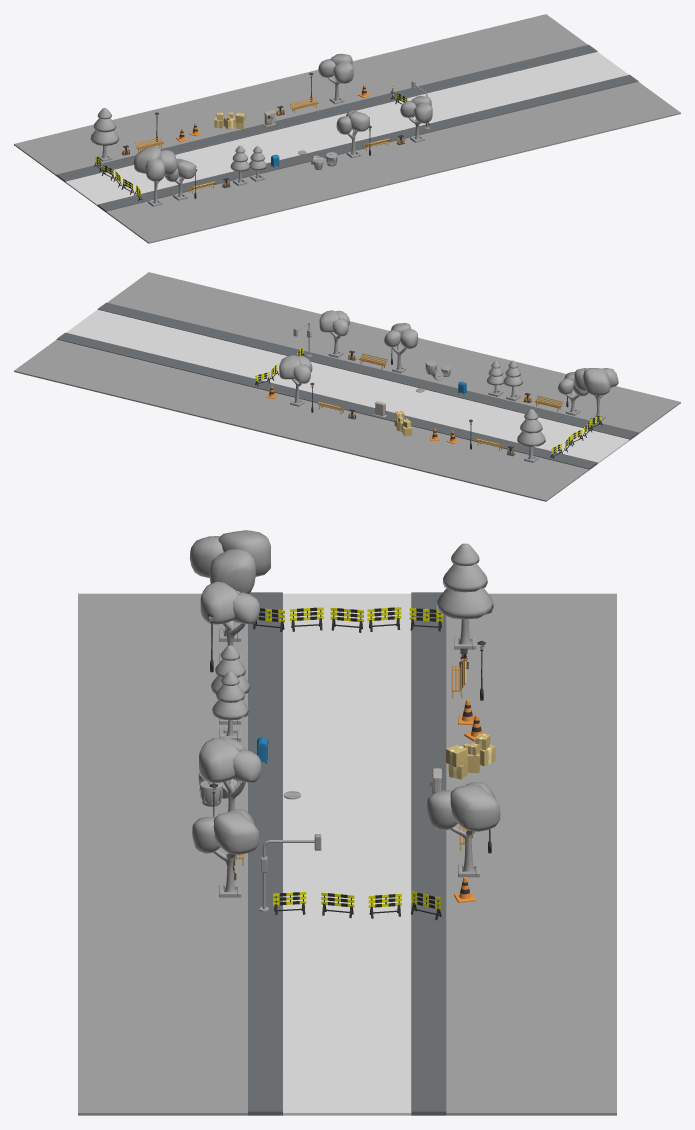
File: Environment.fbx
The picture shows the model from 3 angles, top to bottom: view 1: azimuth 30°, elevation 25°; view 2: azimuth 150°, elevation 25°; view 3: azimuth 270°, elevation 25°; orthographic projection. The views are drawn at different scales.
Parts seen in each view (by area): view 1: Grass_02, Sidewalk_01, Grass_01, Tree_06, Tree_07, Pine_Tree_04, Tree_04, Tree_01, Tree_02, Crosswalk_Lines, Pine_Tree_01, Boxes_01 (+1 smaller); view 2: Sidewalk_01, Grass_01, Grass_02, Tree_06, Tree_07, Tree_01, Pine_Tree_04, Tree_04, Tree_02, Pine_Tree_01, Pine_Tree_03, Crosswalk_Lines; view 3: Sidewalk_01, Grass_01, Grass_02, Tree_06, Tree_07, Pine_Tree_04, Tree_04, Tree_01, Tree_02, Crosswalk_Lines, Boxes_01, Pine_Tree_03 (+1 smaller).
Boxes of the visible parts, bbox=[...] form: Grass_02: bbox=[106, 81, 680, 243]; Sidewalk_01: bbox=[56, 44, 638, 212]; Grass_01: bbox=[14, 14, 587, 175]; Tree_06: bbox=[134, 147, 177, 206]; Tree_07: bbox=[318, 53, 353, 104]; Pine_Tree_04: bbox=[90, 108, 119, 161]; Tree_04: bbox=[400, 96, 432, 142]; Tree_01: bbox=[336, 110, 369, 158]; Tree_02: bbox=[164, 158, 196, 200]; Crosswalk_Lines: bbox=[360, 105, 413, 132]; Pine_Tree_01: bbox=[230, 145, 249, 185]; Boxes_01: bbox=[214, 112, 245, 129]; Sidewalk_01: bbox=[56, 302, 638, 470]; Grass_01: bbox=[14, 339, 588, 501]; Grass_02: bbox=[107, 272, 680, 433]; Tree_06: bbox=[574, 368, 618, 421]; Tree_07: bbox=[279, 355, 312, 406]; Tree_01: bbox=[384, 323, 418, 373]; Pine_Tree_04: bbox=[517, 409, 545, 462]; Tree_04: bbox=[319, 310, 349, 357]; Tree_02: bbox=[558, 372, 588, 415]; Pine_Tree_01: bbox=[503, 360, 522, 401]; Pine_Tree_03: bbox=[486, 361, 504, 396]; Crosswalk_Lines: bbox=[281, 364, 340, 390]; Sidewalk_01: bbox=[248, 592, 446, 1115]; Grass_01: bbox=[446, 593, 616, 1115]; Grass_02: bbox=[78, 593, 247, 1115]; Tree_06: bbox=[189, 530, 270, 641]; Tree_07: bbox=[426, 782, 500, 877]; Pine_Tree_04: bbox=[436, 543, 493, 649]; Tree_04: bbox=[192, 809, 259, 897]; Tree_01: bbox=[199, 737, 261, 811]; Tree_02: bbox=[200, 582, 259, 662]; Crosswalk_Lines: bbox=[293, 873, 401, 904]; Boxes_01: bbox=[446, 733, 495, 779]; Pine_Tree_03: bbox=[212, 671, 248, 741].
Bounding box in the file's own units: 12502 × 1194 × 5484.
